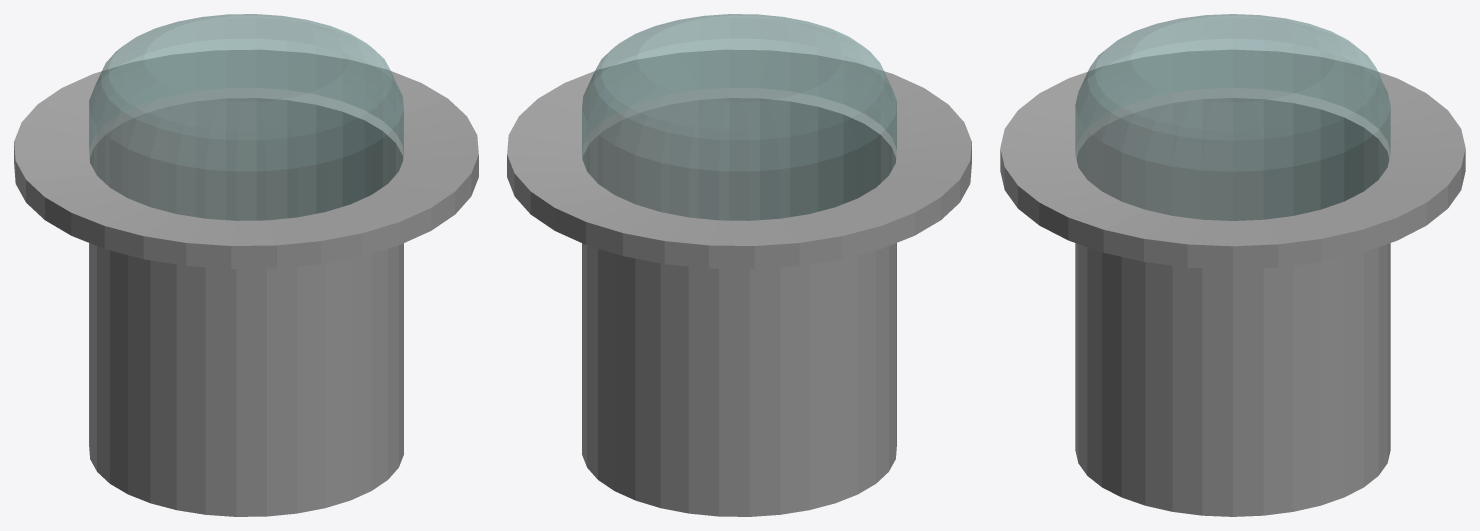
Rendered from Envi_BlockOut_Building01.fbx.
The picture shows the model from 3 angles, left to right: view 1: azimuth 30°, elevation 25°; view 2: azimuth 150°, elevation 25°; view 3: azimuth 270°, elevation 25°; orthographic projection.
Parts seen in each view (by area): view 1: Tower:Mesh; view 2: Tower:Mesh; view 3: Tower:Mesh.
Part boxes in pixels (x1,y1,x2,y2): Tower:Mesh: (14, 14, 478, 516); Tower:Mesh: (507, 14, 971, 516); Tower:Mesh: (1000, 14, 1465, 516).
Size of the model in its own units: 3.86 by 3.59 by 3.86.
